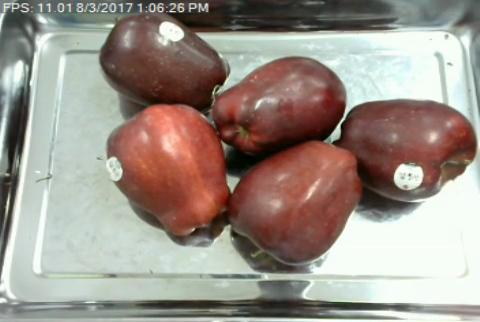Apple: (101, 101, 238, 241), (226, 138, 365, 266), (330, 96, 480, 202), (96, 9, 234, 114), (210, 54, 348, 153)
